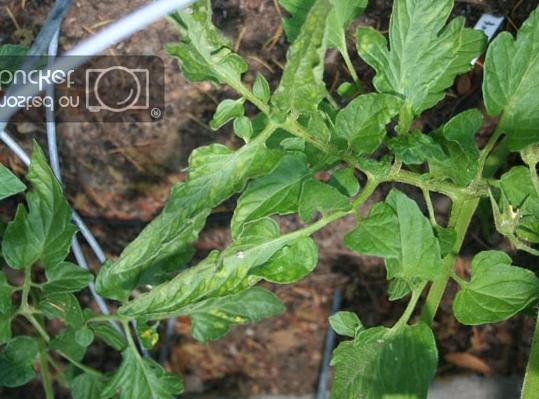Tomato leaf mosaic virus: (346, 0, 478, 153), (114, 141, 255, 275), (0, 139, 86, 279), (464, 0, 539, 150), (324, 306, 444, 399), (451, 246, 539, 324), (317, 92, 403, 164), (347, 204, 411, 263)
